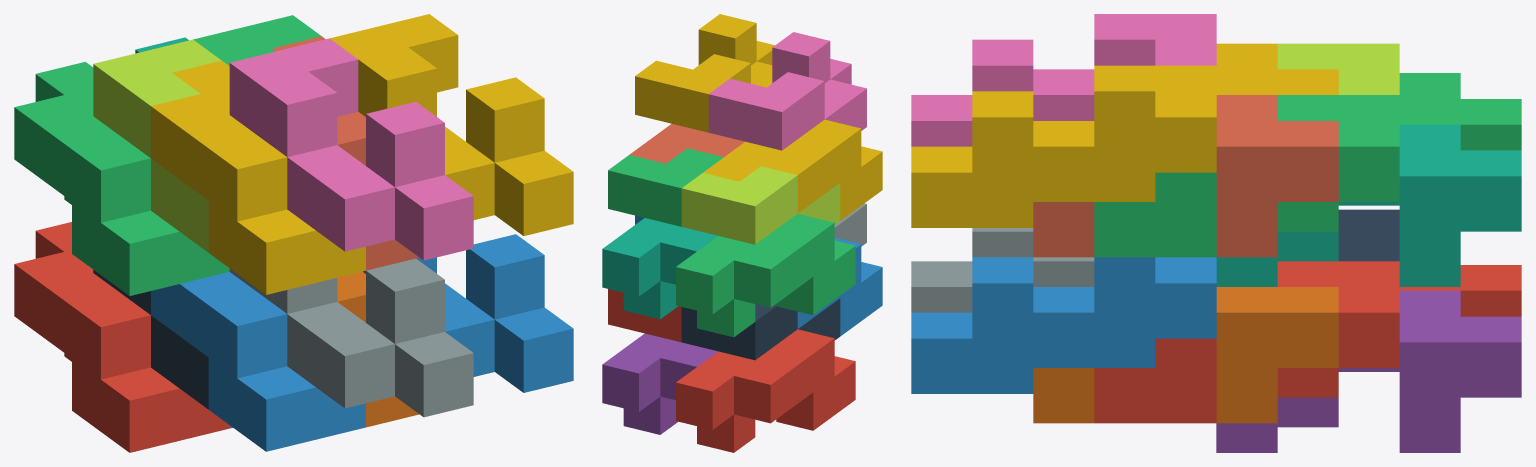
The model's file is tiling.obj.
3 views of the same model, side by side, from view 1: azimuth 30°, elevation 25°; view 2: azimuth 150°, elevation 25°; view 3: azimuth 270°, elevation 25° (orthographic). The views are drawn at different scales.
Parts seen in each view (by area): view 1: copy_2_domain_4, copy_2_domain_8, copy_1_domain_3, copy_1_domain_4, copy_2_domain_2, copy_1_domain_1, copy_1_domain_2, copy_2_domain_6, copy_2_domain_3, copy_2_domain_1, copy_2_domain_7, copy_1_domain_8 (+1 smaller); view 2: copy_1_domain_1, copy_1_domain_3, copy_2_domain_4, copy_2_domain_8, copy_1_domain_4, copy_2_domain_3, copy_1_domain_7, copy_1_domain_5, copy_2_domain_7, copy_2_domain_1, copy_1_domain_2, copy_1_domain_8 (+2 smaller); view 3: copy_2_domain_8, copy_2_domain_6, copy_1_domain_5, copy_1_domain_7, copy_2_domain_5, copy_2_domain_7, copy_1_domain_8, copy_1_domain_6, copy_2_domain_4, copy_2_domain_2, copy_1_domain_3, copy_2_domain_3 (+3 smaller).
Part boxes in pixels (left/top/right/bottom): copy_2_domain_4: left=229, top=38, right=473, bottom=260; copy_2_domain_8: left=330, top=14, right=573, bottom=235; copy_1_domain_3: left=14, top=61, right=229, bottom=295; copy_1_domain_4: left=151, top=60, right=365, bottom=294; copy_2_domain_2: left=229, top=258, right=473, bottom=417; copy_1_domain_1: left=14, top=222, right=229, bottom=452; copy_1_domain_2: left=151, top=272, right=365, bottom=451; copy_2_domain_6: left=363, top=234, right=573, bottom=392; copy_2_domain_3: left=93, top=39, right=221, bottom=252; copy_2_domain_1: left=93, top=270, right=208, bottom=409; copy_2_domain_7: left=193, top=15, right=321, bottom=65; copy_1_domain_8: left=272, top=36, right=418, bottom=270; copy_1_domain_1: left=676, top=329, right=855, bottom=452; copy_1_domain_3: left=676, top=214, right=855, bottom=337; copy_2_domain_4: left=708, top=32, right=866, bottom=150; copy_2_domain_8: left=635, top=14, right=774, bottom=132; copy_1_domain_4: left=703, top=119, right=882, bottom=220; copy_2_domain_3: left=681, top=166, right=840, bottom=244; copy_1_domain_7: left=602, top=218, right=717, bottom=319; copy_1_domain_5: left=602, top=333, right=717, bottom=434; copy_2_domain_7: left=608, top=148, right=723, bottom=226; copy_2_domain_1: left=681, top=298, right=840, bottom=360; copy_1_domain_2: left=797, top=237, right=882, bottom=336; copy_1_domain_8: left=629, top=124, right=744, bottom=163; copy_2_domain_8: left=911, top=65, right=1216, bottom=227; copy_2_domain_6: left=911, top=257, right=1216, bottom=393; copy_1_domain_5: left=1216, top=290, right=1521, bottom=452; copy_1_domain_7: left=1216, top=124, right=1521, bottom=286; copy_2_domain_5: left=1094, top=261, right=1399, bottom=423; copy_2_domain_7: left=1094, top=95, right=1399, bottom=257; copy_1_domain_8: left=1033, top=95, right=1338, bottom=257; copy_1_domain_6: left=1033, top=287, right=1338, bottom=423; copy_2_domain_4: left=911, top=14, right=1216, bottom=146; copy_2_domain_2: left=911, top=228, right=1094, bottom=312; copy_1_domain_3: left=1399, top=73, right=1521, bottom=150; copy_2_domain_3: left=1277, top=43, right=1399, bottom=94.
Size of the model in its own units: 6 by 7 by 10.
